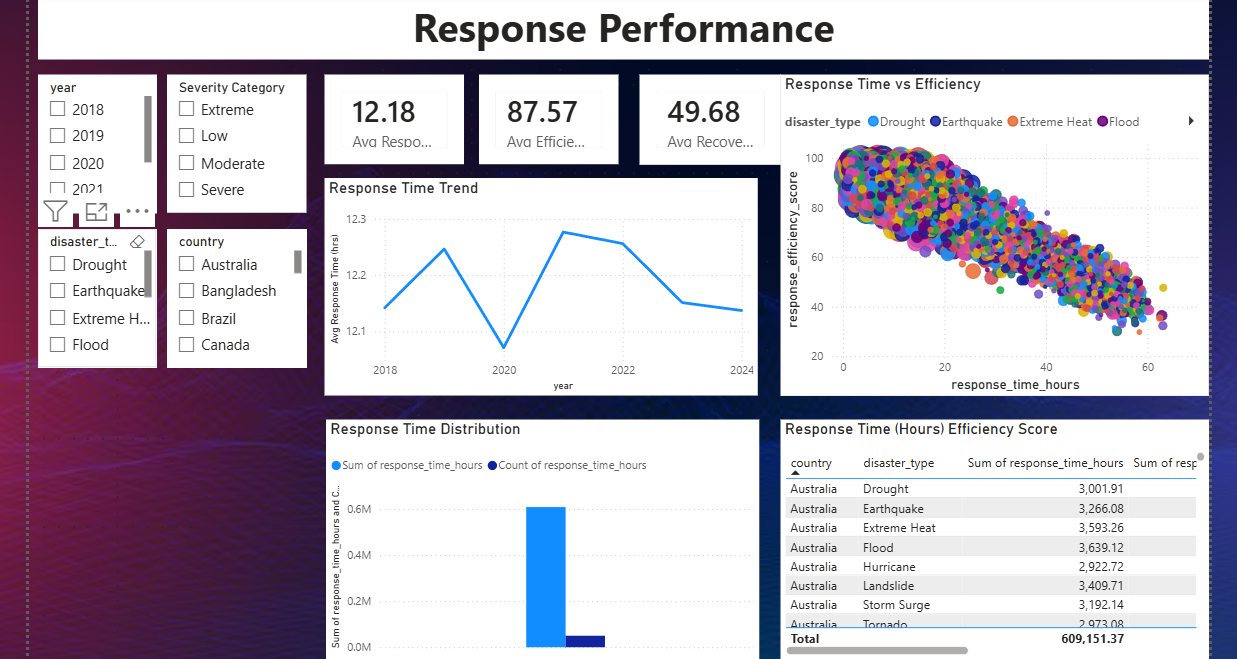

The page's visual inventory and layout, read from the dashboard file:
{"tool":"powerbi","page":{"name":"Page 3","canvas":[1280,720],"ordinal":2},"visuals":[{"type":"textbox","box":[9.8,0,1270.8,70],"z":0},{"type":"slicer","fields":{"Values":["global_disaster_clean.year"]},"box":[9.8,86.2,128.5,149.7],"z":1},{"type":"slicer","fields":{"Values":["global_disaster_clean.disaster_type"]},"box":[9.8,253.8,128.5,149.7],"z":2},{"type":"slicer","fields":{"Values":["global_disaster_clean.Severity Category"]},"box":[149.7,86.2,151.3,149.7],"z":3},{"type":"slicer","fields":{"Values":["global_disaster_clean.country"]},"box":[149.7,253.8,151.3,149.7],"z":4},{"type":"cardVisual","fields":{"Data":["global_disaster_clean.Avg Response Time (hrs)"]},"box":[320.5,86.2,151.3,97.6],"z":5},{"type":"cardVisual","fields":{"Data":["global_disaster_clean.Avg Efficiency Score"]},"box":[488.1,86.2,151.3,97.6],"z":6},{"type":"cardVisual","fields":{"Data":["global_disaster_clean.Avg Recovery Duration (days)"]},"box":[661.9,85.9,153.3,97.7],"z":7},{"type":"lineChart","title":"Response Time Trend","fields":{"Category":["global_disaster_clean.year"],"Y":["global_disaster_clean.Avg Response Time (hrs)"]},"box":[320.5,198.5,470.2,235.9],"z":8},{"type":"scatterChart","title":"Response Time vs Efficiency","fields":{"Series":["global_disaster_clean.disaster_type"],"Size":["Sum(global_disaster_clean.casualties)"],"X":["global_disaster_clean.response_time_hours"],"Y":["global_disaster_clean.response_efficiency_score"]},"box":[815.2,85.9,464.8,348.6],"z":9},{"type":"clusteredColumnChart","title":"Response Time Distribution","fields":{"Y":["Sum(global_disaster_clean.response_time_hours)","CountNonNull(global_disaster_clean.response_time_hours)"]},"box":[321.7,459.8,469.9,261.1],"z":11},{"type":"tableEx","title":"Response Time (Hours)  Efficiency Score","fields":{"Values":["global_disaster_clean.country","global_disaster_clean.disaster_type","Sum(global_disaster_clean.response_time_hours)","Sum(global_disaster_clean.response_efficiency_score)","Sum(global_disaster_clean.recovery_days)","Sum(global_disaster_clean.casualties)","Sum(global_disaster_clean.economic_loss_usd)"]},"box":[815,460,465,260],"z":12}]}

Visuals, with their boxes on the page's 1280x720 design canvas (x1, y1, x2, y2). These are canvas units, not pixel positions in the 1237x659 screenshot, which may show the page scaled, cropped or inside an application window:
textbox: 10/0/1281/70
slicer - global_disaster_clean.year: 10/86/138/236
slicer - global_disaster_clean.disaster_type: 10/254/138/404
slicer - global_disaster_clean.Severity Category: 150/86/301/236
slicer - global_disaster_clean.country: 150/254/301/404
cardVisual - global_disaster_clean.Avg Response Time (hrs): 320/86/472/184
cardVisual - global_disaster_clean.Avg Efficiency Score: 488/86/639/184
cardVisual - global_disaster_clean.Avg Recovery Duration (days): 662/86/815/184
"Response Time Trend" lineChart: 320/198/791/434
"Response Time vs Efficiency" scatterChart: 815/86/1280/434
"Response Time Distribution" clusteredColumnChart: 322/460/792/721
"Response Time (Hours)  Efficiency Score" tableEx: 815/460/1280/720
